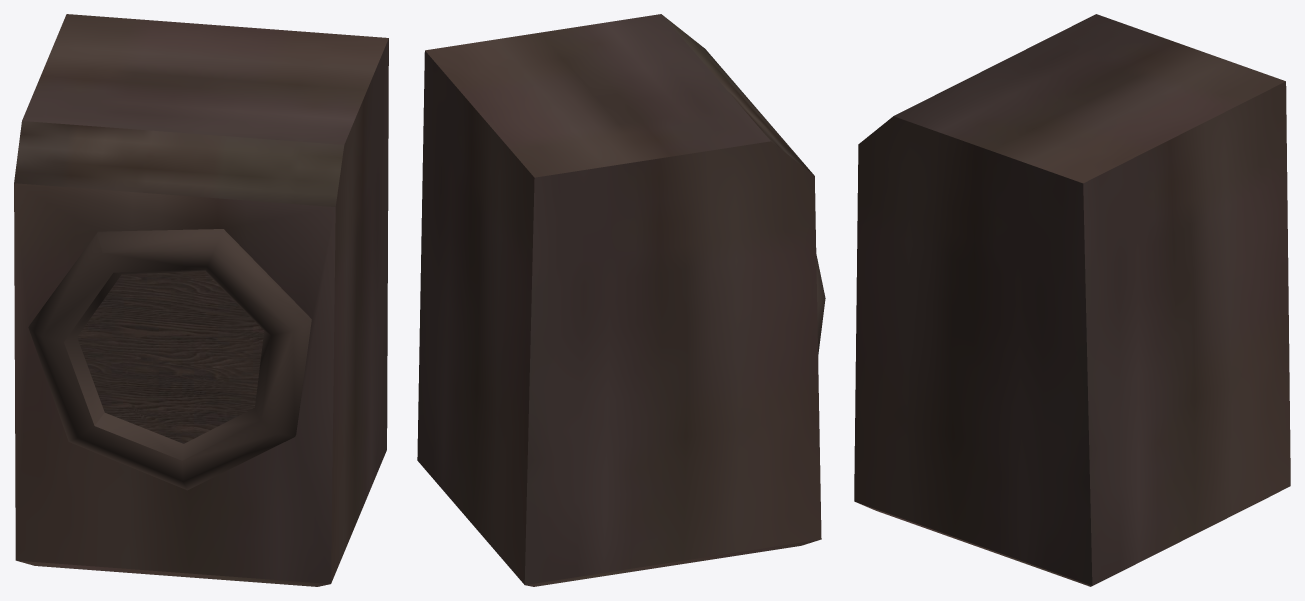
3 views of the same model, side by side, from view 1: azimuth 30°, elevation 25°; view 2: azimuth 150°, elevation 25°; view 3: azimuth 270°, elevation 25° (orthographic). The views are drawn at different scales.
Parts seen in each view (by area): view 1: Washing_machine001_Hygiene_0, Washing_machine_d001_Hygiene_0, Washing_machine_d001_Glass_0; view 2: Washing_machine001_Hygiene_0; view 3: Washing_machine001_Hygiene_0.
Part boxes in pixels (<box>): Washing_machine001_Hygiene_0: <box>14,14,388,586</box>; Washing_machine_d001_Hygiene_0: <box>28,229,311,490</box>; Washing_machine_d001_Glass_0: <box>77,271,264,443</box>; Washing_machine001_Hygiene_0: <box>417,14,821,586</box>; Washing_machine001_Hygiene_0: <box>854,14,1290,586</box>.
Size of the model in its own units: 0.9009 by 0.9374 by 0.9015.
Materials: 1 (1 with a texture image).
